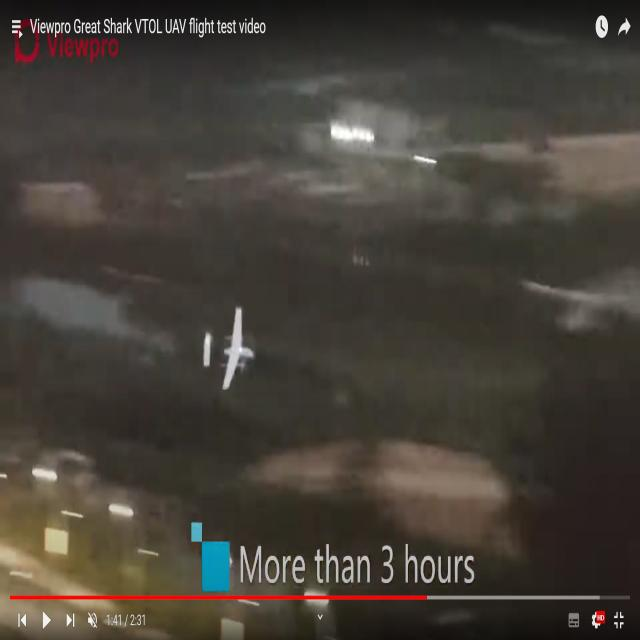iha: (202, 335, 255, 357)
